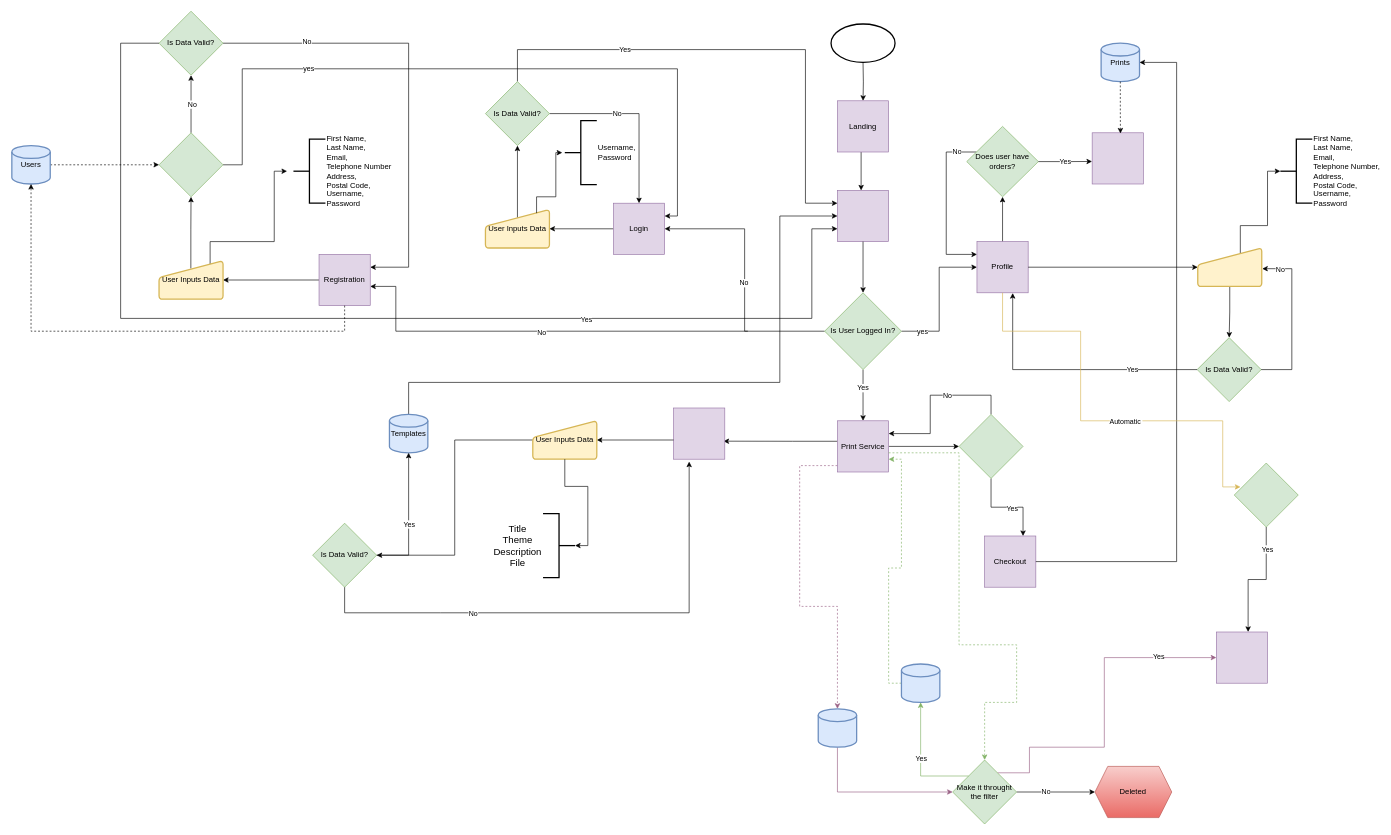
Image size: 1391x835. Some labels were removed from this diagram. The shapes that lost their labels are listed below. From the top down, each one's centre as x and y in pixels, then its label:
At point 862,43: "Start".
At point 190,164: "Does User Exist?".
At point 1117,158: "My Orders".
At point 863,216: "Browse Existing Templates (Home)".
At point 1229,267: "User input data,".
At point 699,433: "Create Community Template".
At point 990,446: "Has user made a purchase?".
At point 1266,494: "Is user admin?".
At point 1242,657: "System Manager".
At point 920,683: "Comments".
At point 837,728: "Reports".
